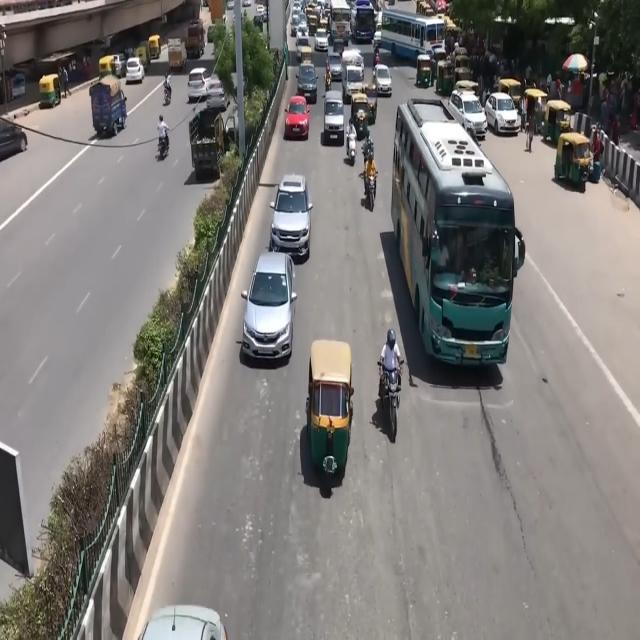auto: (305, 338, 353, 478), (554, 130, 592, 191), (542, 98, 572, 146), (349, 91, 374, 136), (498, 77, 524, 112), (39, 74, 61, 108), (436, 58, 455, 96), (454, 79, 480, 104), (416, 54, 434, 90), (442, 17, 462, 45), (454, 63, 473, 92), (148, 35, 161, 60)
bike-auto: (380, 330, 402, 400), (363, 148, 378, 208), (158, 114, 170, 156), (346, 119, 357, 160), (164, 73, 172, 102), (325, 58, 332, 87)
